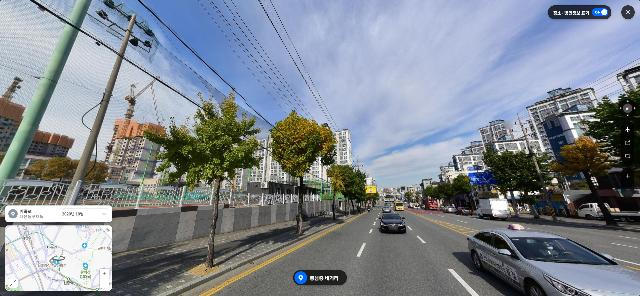ginkgo: (556, 135, 623, 226)
other: (143, 91, 265, 269), (268, 109, 337, 234), (478, 142, 554, 219), (584, 81, 640, 170), (326, 162, 369, 221), (22, 157, 77, 184), (446, 173, 479, 215), (420, 183, 452, 210)
